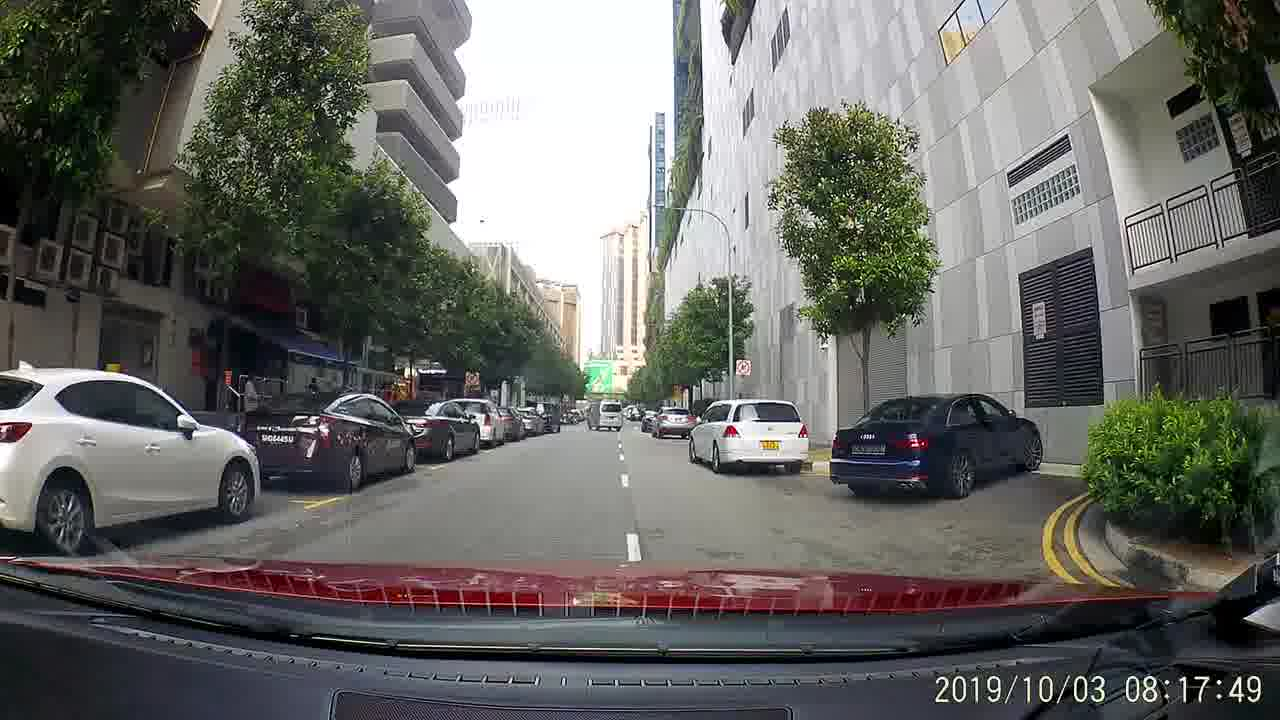car: (2, 356, 259, 553), (832, 390, 1045, 501), (240, 385, 416, 493), (689, 398, 808, 474), (394, 395, 481, 467), (452, 399, 508, 452), (648, 407, 695, 440)
